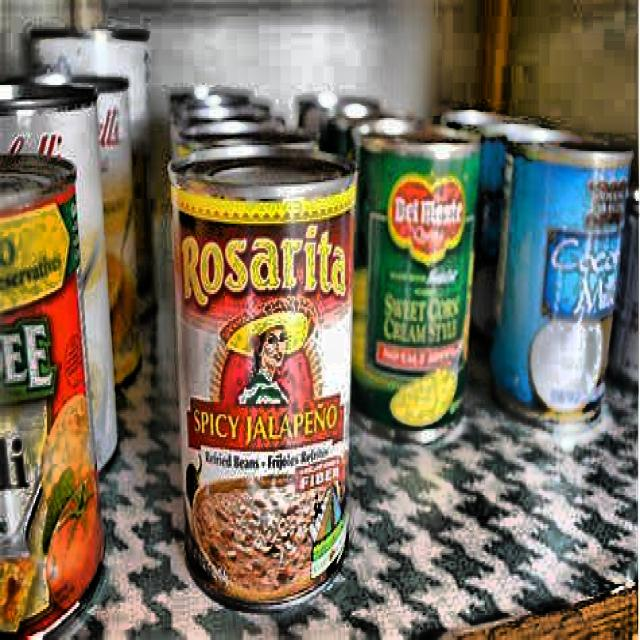Cans: (162, 142, 360, 622), (0, 145, 106, 640), (491, 101, 640, 451), (346, 118, 481, 441)
